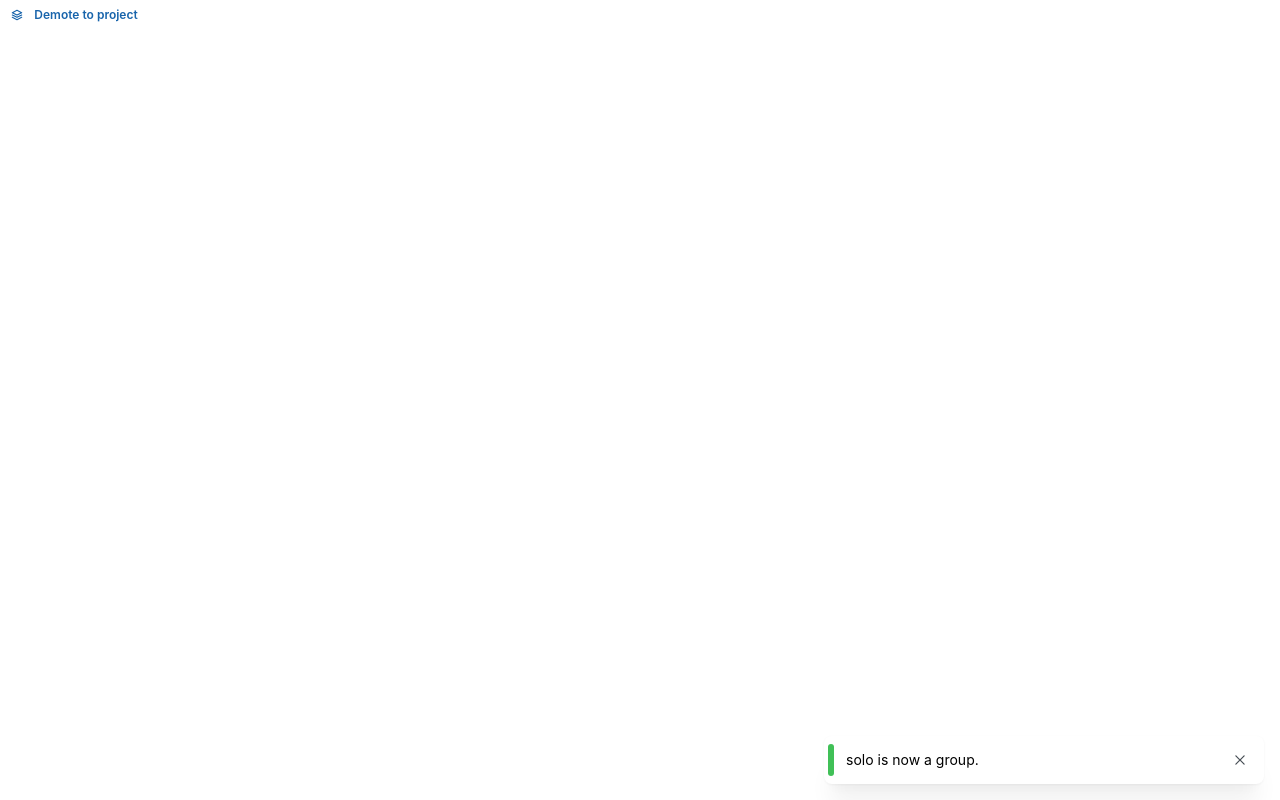
Test: PromoteGroup › offers demote for a group, blocked while it has members
Click the button "Demote to project": (76, 15) [0,0,153,30]
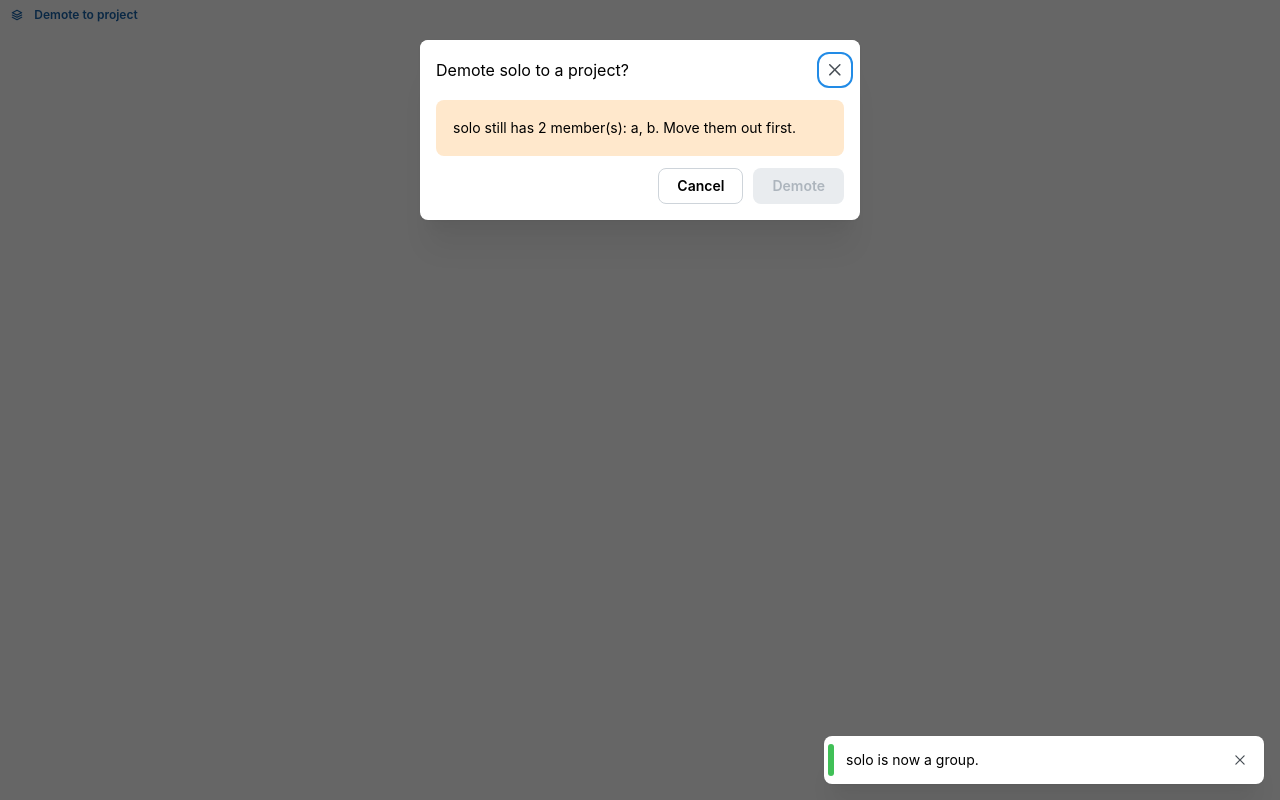
Expected: the text "solo still has 2 member(s): a, b. Move them out first." is shown, [453,117,827,139]
Expected: the button "Demote" is disabled, [753,168,844,204]
